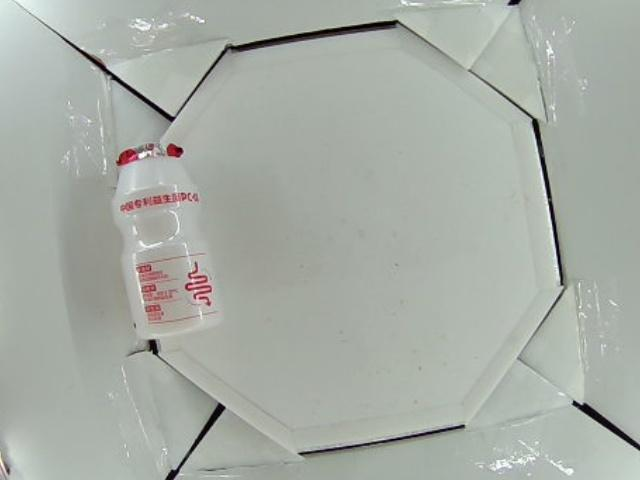Bottle: (113, 137, 222, 344)
